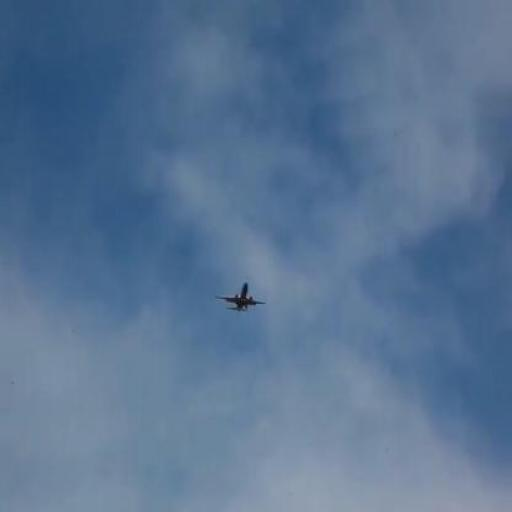aircraft: (216, 283, 266, 312)
